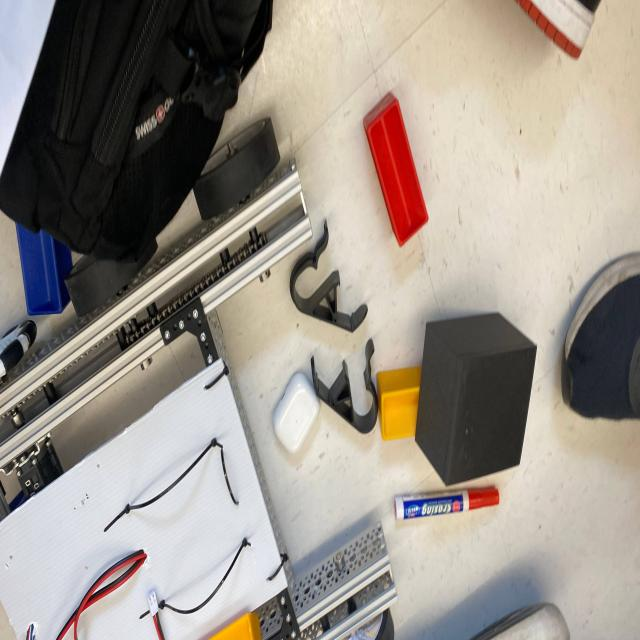blue-specimen: (16, 223, 73, 315)
red-specimen: (363, 93, 428, 246)
yellow-specimen: (377, 366, 421, 440), (210, 613, 262, 640)
